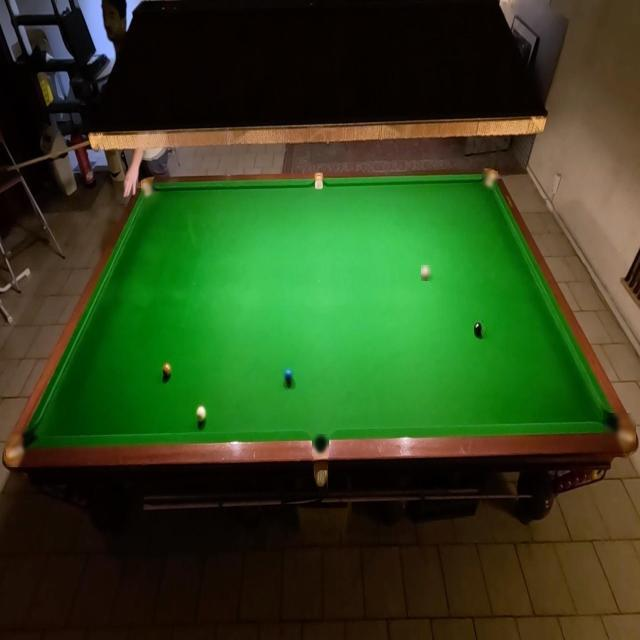Ball: (194, 404, 208, 424), (283, 367, 294, 387), (162, 362, 172, 380), (474, 320, 484, 338), (422, 266, 432, 282)
Pocket: (6, 427, 39, 467), (603, 414, 636, 452), (312, 434, 329, 456), (482, 171, 498, 190), (141, 180, 155, 199), (313, 174, 325, 190)
